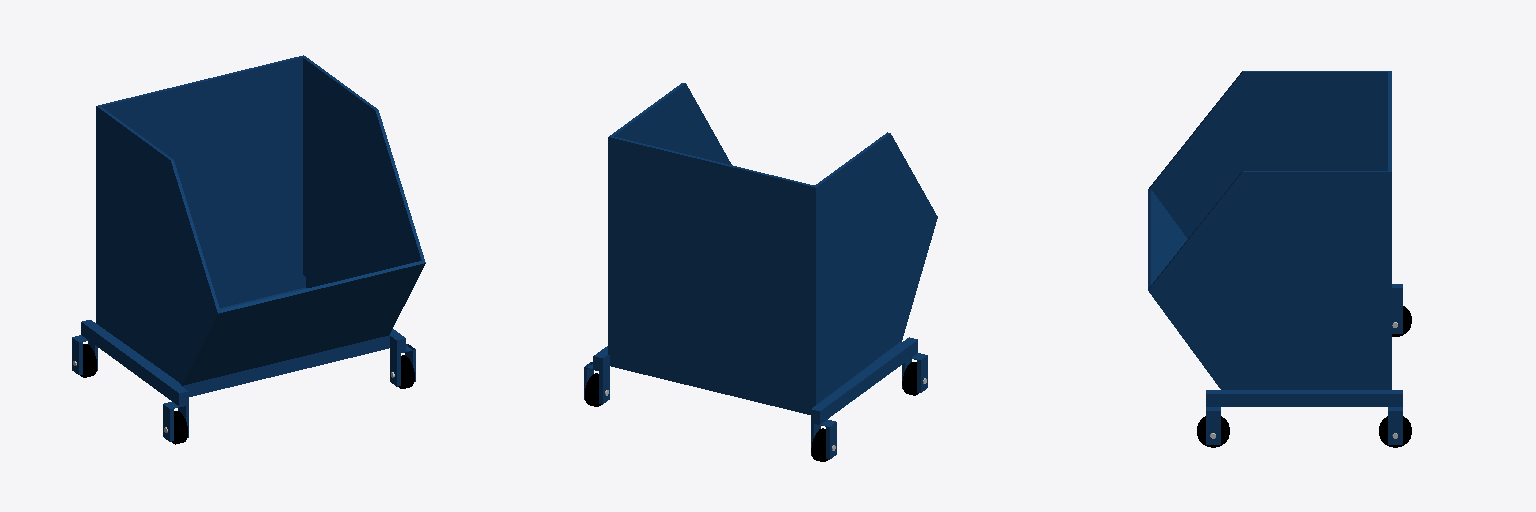
File: bluebin.obj
The picture shows the model from 3 angles: view 1: azimuth 30°, elevation 25°; view 2: azimuth 150°, elevation 25°; view 3: azimuth 270°, elevation 25°; orthographic projection.
Bounding box in the file's own units: 3.94 × 4.08 × 3.63.